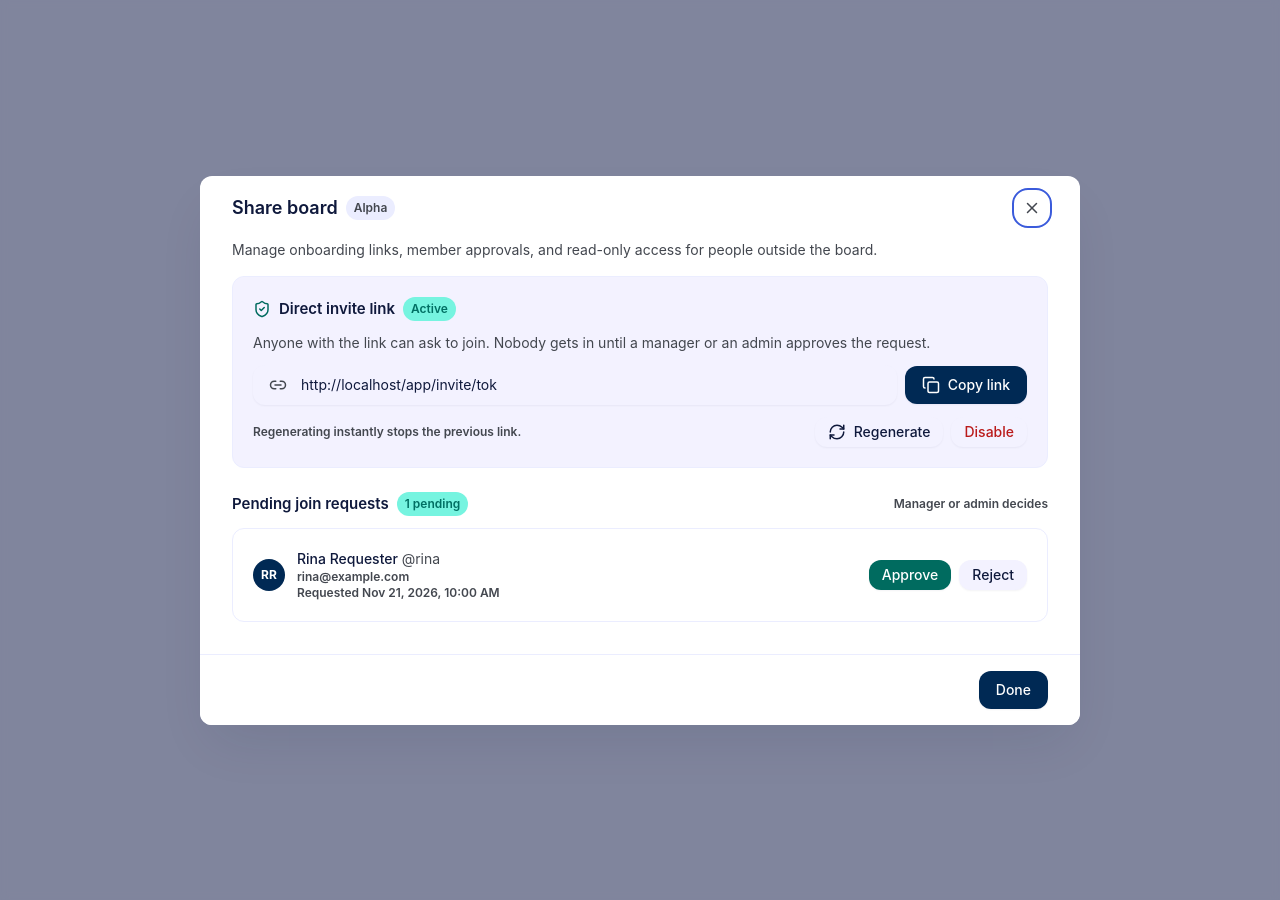
Scenario: ShareModal invite and join requests (Requirements 24 and 55) › shows the link, the requester's Email in the pending list, and Approve and Reject to staff
Expected: the text "Rina Requester" is shown, top-left (297, 550), bottom-right (398, 566)
Expected: the text "rina@example.com" is shown, top-left (297, 568), bottom-right (409, 584)
What coordinates should you click on to do the following:
click the button with aria-label "Approve Rina Requester"
I would click on:
 (910, 574)
Its box is top-left (869, 560), bottom-right (951, 590).
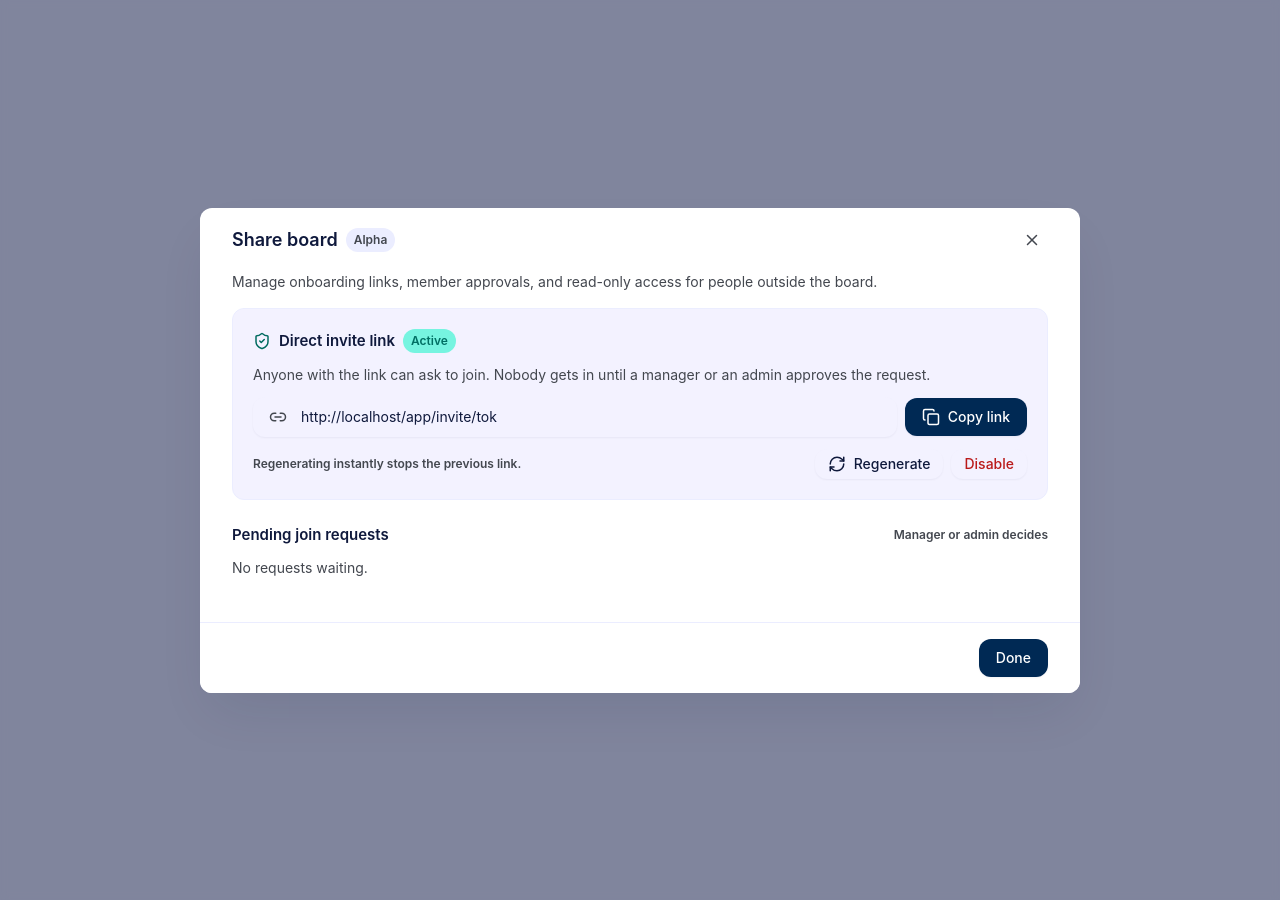
Expected: the text "Rina Requester" is gone
